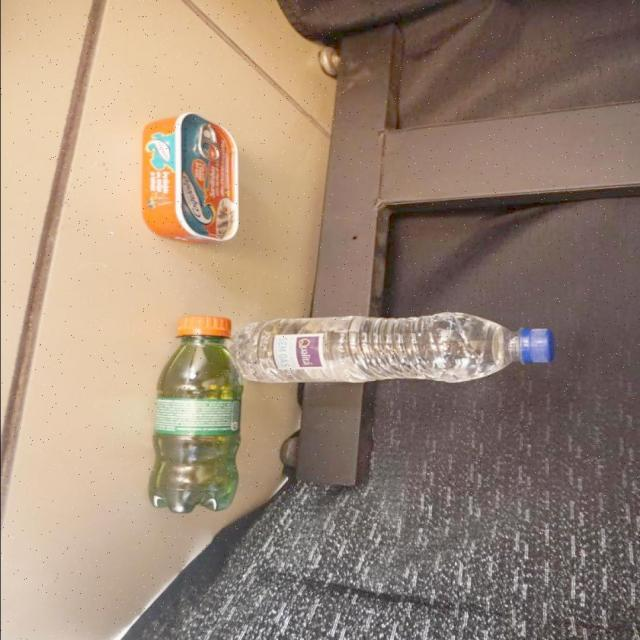Guarana: (146, 316, 242, 514)
TunaCan: (140, 112, 238, 243)
Water: (222, 312, 552, 384)
